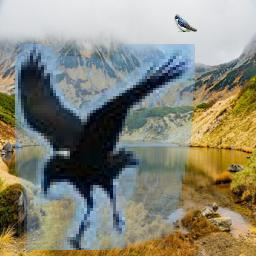Crow: (15, 44, 195, 250)
Swallow: (175, 14, 198, 32)
